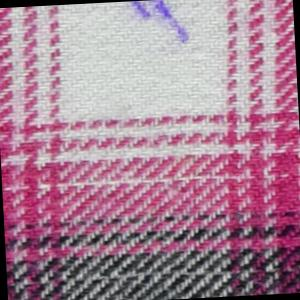Stain: (128, 1, 196, 54)
